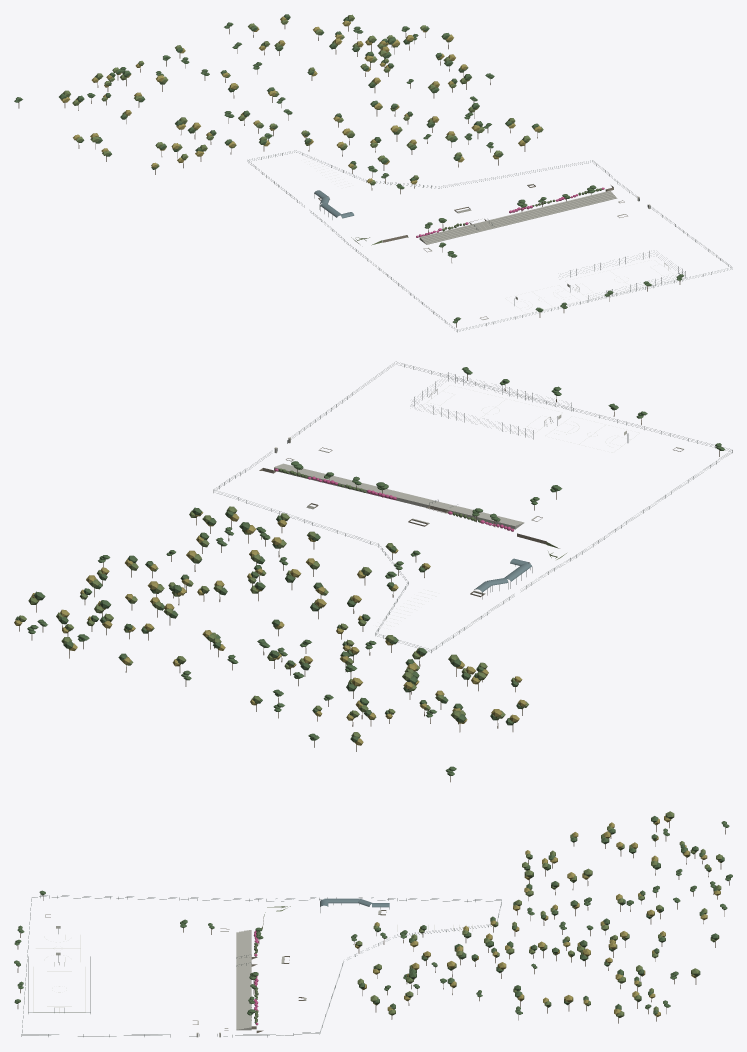
The picture shows the model from 3 angles, top to bottom: view 1: azimuth 30°, elevation 25°; view 2: azimuth 150°, elevation 25°; view 3: azimuth 270°, elevation 25°; orthographic projection. The views are drawn at different scales.
Visible parts, largest first — view 1: planting_mixed-trees, facility_stand-tiered, facility_boundary-fence; view 2: planting_mixed-trees, facility_stand-tiered, facility_boundary-fence; view 3: planting_mixed-trees, facility_stand-tiered, facility_boundary-fence, facility_F-open-canopy.
Part boxes in pixels (box(x1,y1,x2,y2)): planting_mixed-trees: box(14, 14, 683, 327); facility_stand-tiered: box(419, 190, 617, 244); facility_boundary-fence: box(247, 150, 732, 332); planting_mixed-trees: box(14, 367, 724, 782); facility_stand-tiered: box(274, 463, 524, 529); facility_boundary-fence: box(213, 361, 732, 652); planting_mixed-trees: box(14, 811, 732, 1023); facility_stand-tiered: box(236, 930, 251, 1030); facility_boundary-fence: box(21, 895, 501, 1037); facility_F-open-canopy: box(320, 898, 389, 912).
Size of the model in its own units: 187 by 22.05 by 286.
Materials: 14 (2 with a texture image).
